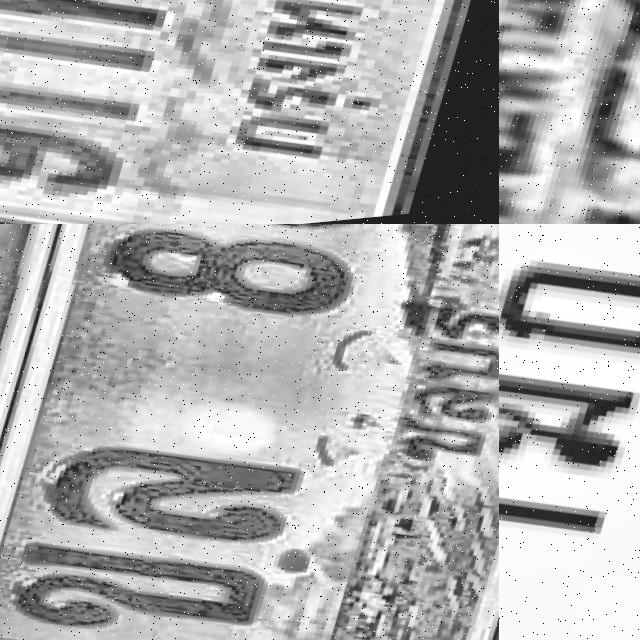license-plate: (0, 224, 499, 640), (0, 0, 499, 224), (499, 224, 640, 640), (499, 0, 640, 224)
